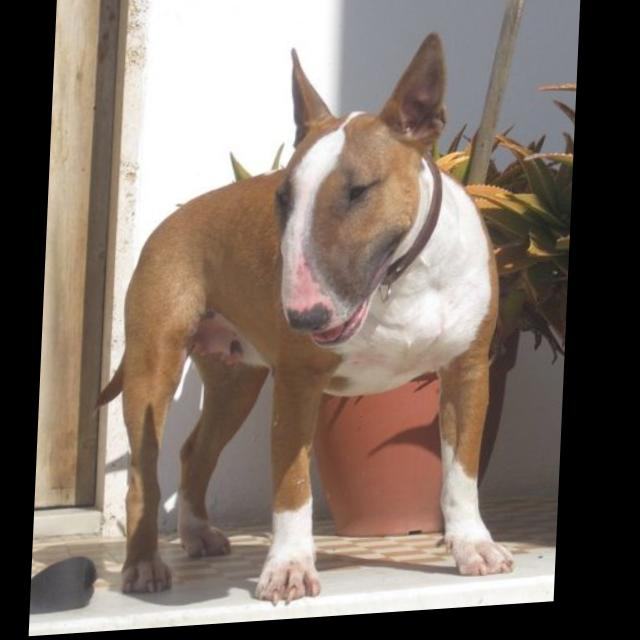bullterrier: (92, 31, 542, 621)
